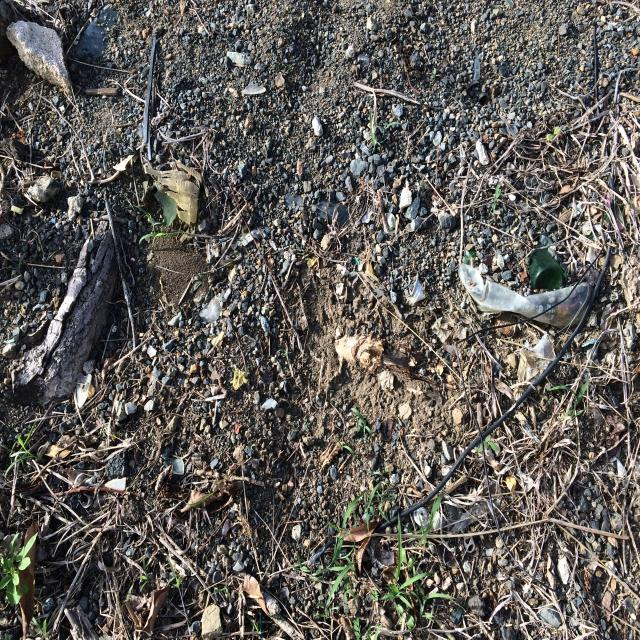litter: (463, 265, 593, 326), (524, 246, 561, 283)
